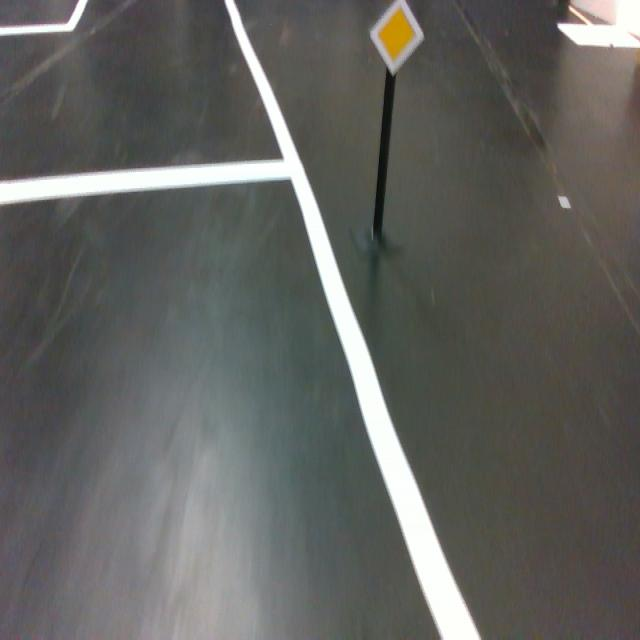priority-sign: (369, 0, 426, 77)
